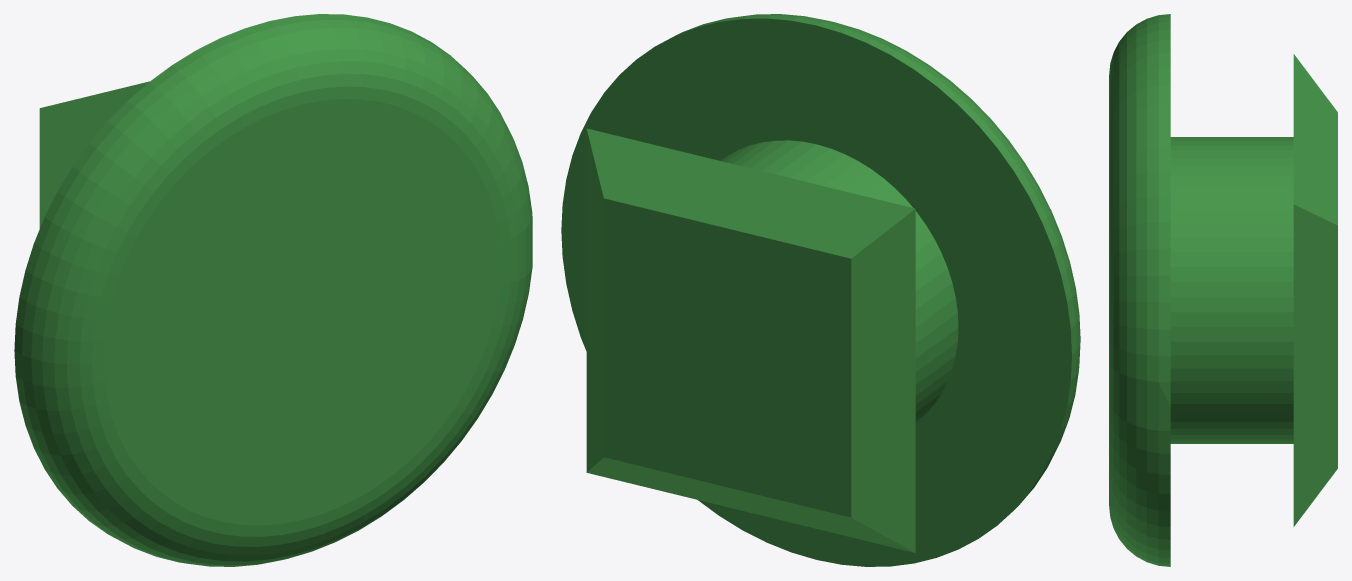
The model's file is tn__botao1_dC_Corpo1_Mesh.obj.
3 views of the same model, side by side, from view 1: azimuth 30°, elevation 25°; view 2: azimuth 150°, elevation 25°; view 3: azimuth 270°, elevation 25° (orthographic). The views are drawn at different scales.
Size of the model in its own units: 0.045 by 0.045 by 0.0186.
